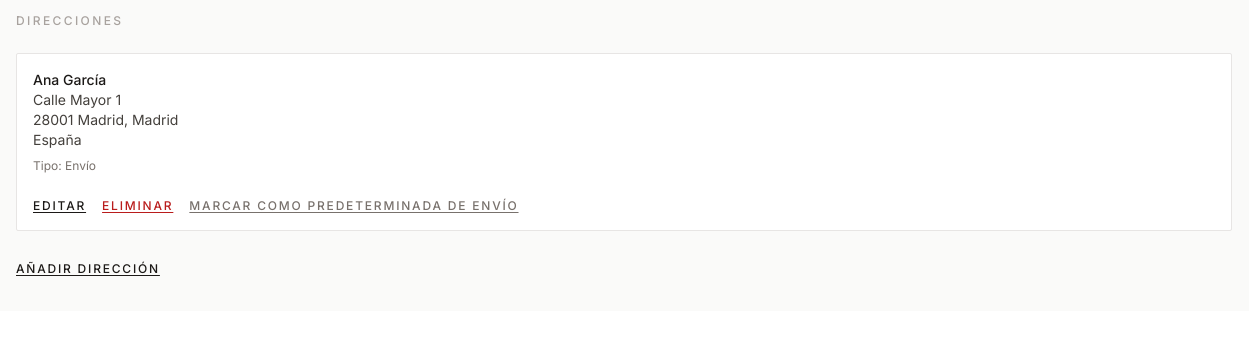
Test: AddressBook › marks default shipping via its endpoint
This screenshot has width=1249, height=355.
Step 1. Click the button "Marcar como predeterminada de envío" → (354, 206), box [189,198,518,214]
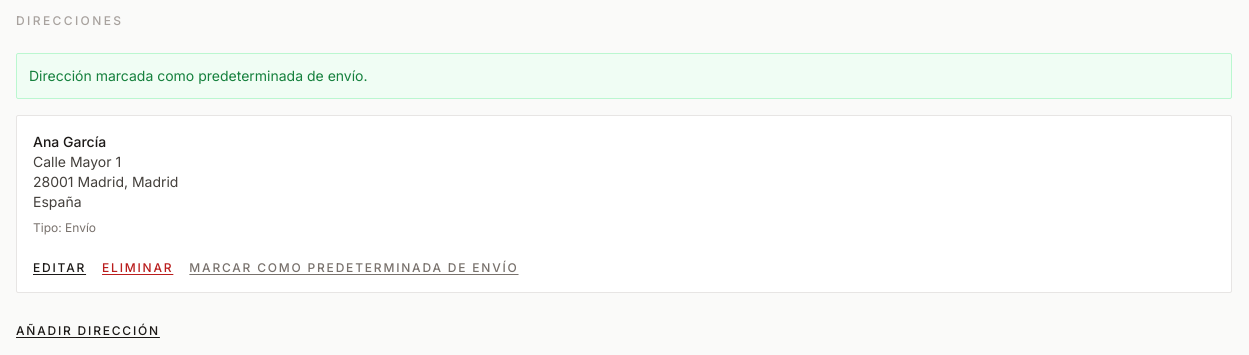
Expected: the text "Dirección marcada como predeterminada de envío." is shown, [29,67,368,84]
